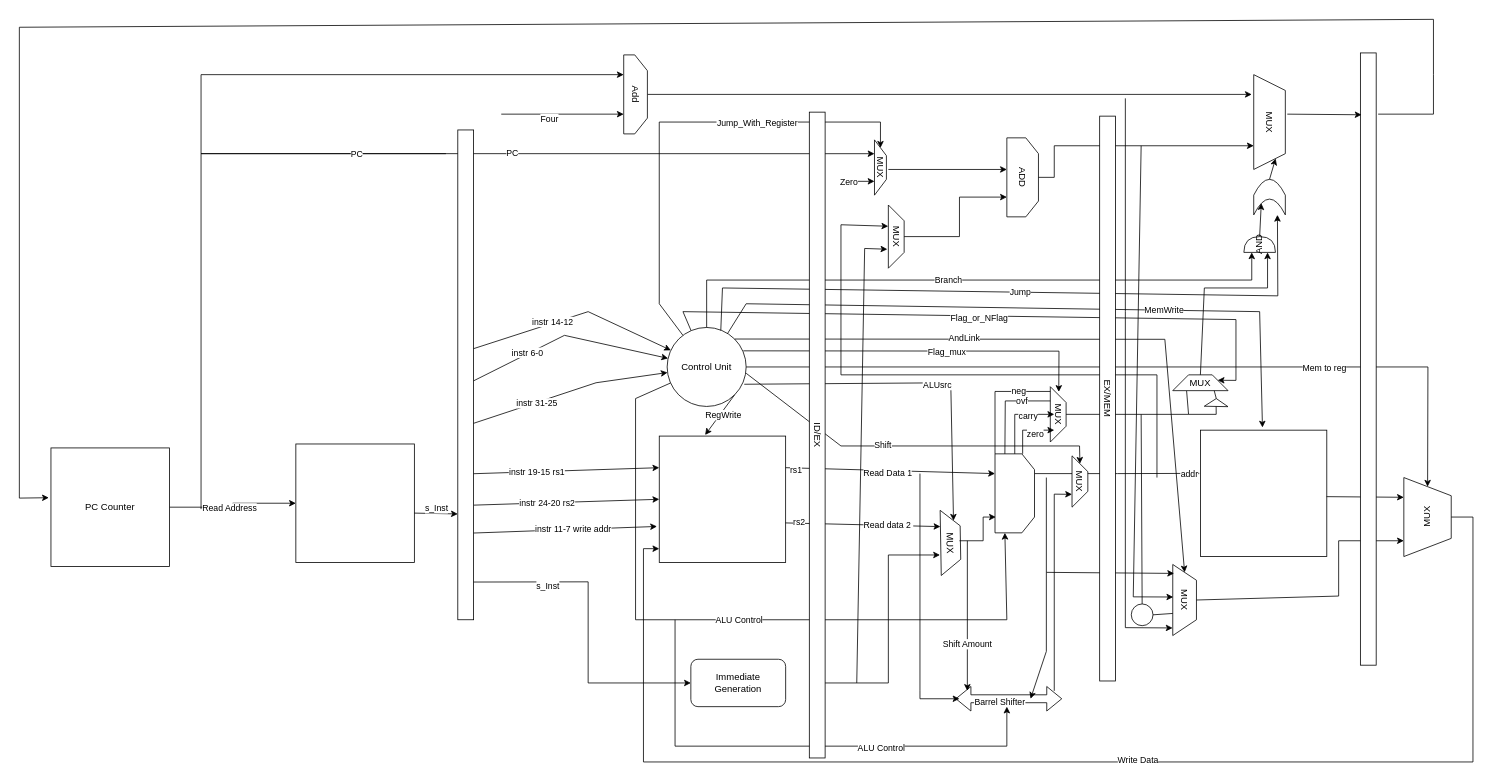
Image size: 1493x782. Some labels were removed from this diagram. Each missing label, with the box of its shape:
ALU: (994, 453, 1035, 533)
IF/ID: (457, 129, 474, 620)
Instruction memory: (295, 443, 414, 562)
MEM/WB: (1360, 52, 1376, 665)
Memory: (1200, 429, 1327, 557)
OR: (1253, 179, 1285, 215)
register file: (658, 435, 786, 562)
zero ex.: (1130, 603, 1153, 626)
